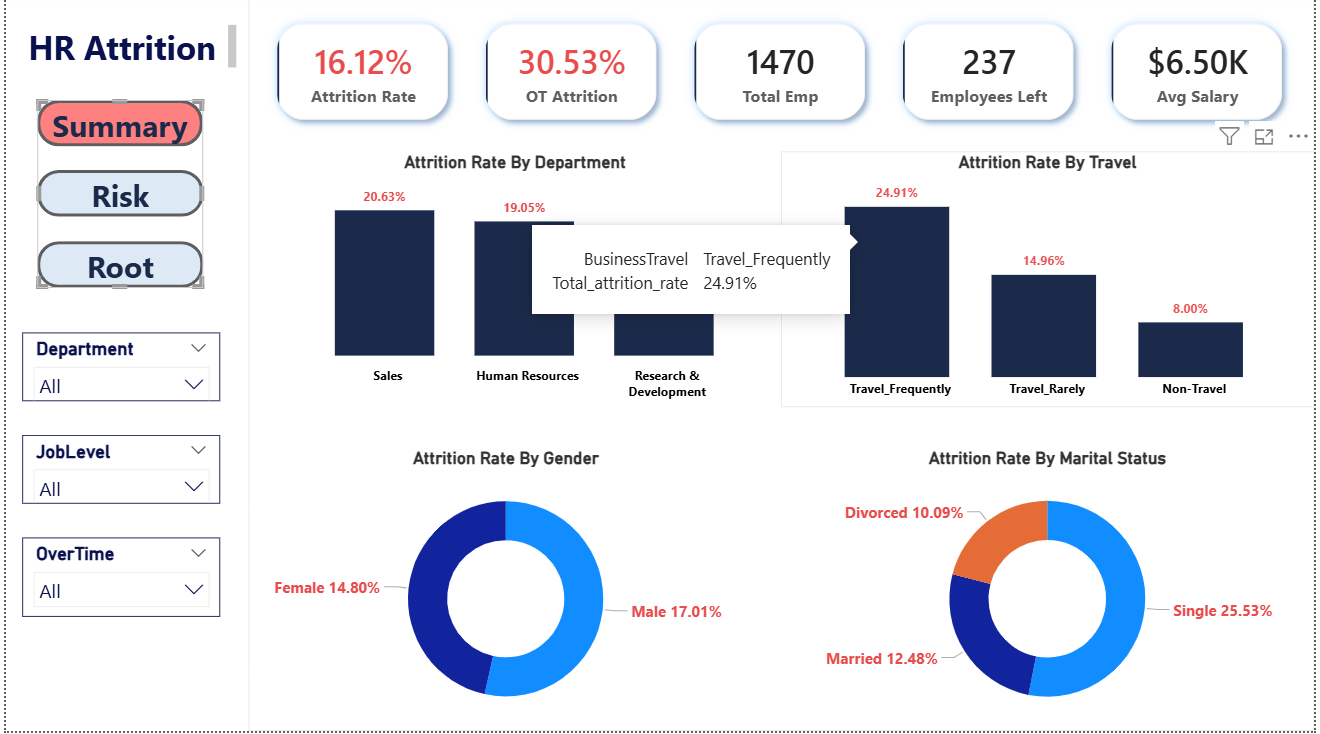

The page's visual inventory and layout, read from the dashboard file:
{"tool":"powerbi","page":{"name":"Hr_dashBoard","canvas":[1280,720],"ordinal":0},"visuals":[{"type":"group","id":"g1","title":"summary_dashboard","box":[237.4,0,1042.9,720.4],"z":0},{"type":"cardVisual","fields":{"Data":["Table.Total_attrition_rate","Table.OT_Attrition_Rate","Table.Total_employees","Table.Employees_left","Table.Avg_salary"]},"box":[237.4,0,1042.9,150.9],"z":0,"group":"g1"},{"type":"actionButton","box":[29.4,100.4,161.9,45.3],"z":0,"group":"g4"},{"type":"clusteredColumnChart","title":"Top 3 Attrition Rate By Department","fields":{"Y":["Table.Total_attrition_rate"],"Category":["hr_data hr_data.Department"]},"box":[262.9,149.5,416.7,268.4],"z":0,"group":"g2"},{"type":"slicer","fields":{"Values":["hr_data hr_data.JobLevel"]},"box":[15.6,431.1,193.9,67.5],"z":0,"group":"g3"},{"type":"group","id":"g2","title":"risk","box":[262.9,149.5,1017.4,569.1],"z":1000},{"type":"clusteredColumnChart","title":" Attrition Rate By  OverTime","fields":{"Y":["Table.Total_attrition_rate"],"Category":["hr_data hr_data.OverTime"]},"box":[653.2,150.9,251.1,264.8],"z":1000,"group":"g2"},{"type":"actionButton","box":[29.4,169.2,162.5,45.6],"z":1000,"group":"g4"},{"type":"slicer","fields":{"Values":["hr_data hr_data.Department"]},"box":[15.6,330.7,193.9,67.5],"z":1000,"group":"g3"},{"type":"actionButton","box":[29.4,238.4,162.5,45.6],"z":2000,"group":"g4"},{"type":"barChart","title":"Attrition Rate By Distance","fields":{"Category":["hr_data hr_data.distance"],"Y":["Table.Total_attrition_rate"]},"box":[758.5,453.6,521.2,264.9],"z":2000,"group":"g2"},{"type":"slicer","fields":{"Values":["hr_data hr_data.OverTime"]},"box":[15.6,531.6,193.9,77.9],"z":2000,"group":"g3"},{"type":"textbox","box":[3.5,24.2,226.8,51.9],"z":3000},{"type":"clusteredColumnChart","title":"Attrition Rate By  Salary","fields":{"Y":["Table.Total_attrition_rate"],"Category":["hr_data hr_data.salary band"]},"box":[263.2,455.4,476.2,263.2],"z":3000,"group":"g2"},{"type":"clusteredColumnChart","title":"Attrition Rate By JobLevel","fields":{"Y":["Table.Total_attrition_rate"],"Category":["hr_data hr_data.JobLevel"]},"box":[891.9,152.3,388.3,264.8],"z":4000,"group":"g2"},{"type":"group","id":"g3","title":"slicers","box":[15.6,330.7,193.9,278.8],"z":5000},{"type":"group","id":"g4","title":"Riskbuttons","box":[29.4,100.4,162.8,183.6],"z":7000}]}

Visuals, with their boxes in screenshot pixels (x1, y1, x2, y2), scaled from the page's 1280x720 canvas onto the 1320x734 screenshot:
"summary_dashboard" group: [left=245, top=0, right=1319, bottom=733]
cardVisual - Table.Total_attrition_rate x Table.OT_Attrition_Rate: [left=245, top=0, right=1319, bottom=154]
actionButton: [left=30, top=102, right=197, bottom=149]
"Top 3 Attrition Rate By Department" clusteredColumnChart: [left=271, top=152, right=701, bottom=426]
slicer - hr_data hr_data.JobLevel: [left=16, top=439, right=216, bottom=508]
"risk" group: [left=271, top=152, right=1319, bottom=733]
" Attrition Rate By  OverTime" clusteredColumnChart: [left=674, top=154, right=933, bottom=424]
actionButton: [left=30, top=172, right=198, bottom=219]
slicer - hr_data hr_data.Department: [left=16, top=337, right=216, bottom=406]
actionButton: [left=30, top=243, right=198, bottom=290]
"Attrition Rate By Distance" barChart: [left=782, top=462, right=1319, bottom=732]
slicer - hr_data hr_data.OverTime: [left=16, top=542, right=216, bottom=621]
textbox: [left=4, top=25, right=237, bottom=78]
"Attrition Rate By  Salary" clusteredColumnChart: [left=271, top=464, right=763, bottom=733]
"Attrition Rate By JobLevel" clusteredColumnChart: [left=920, top=155, right=1319, bottom=425]
"slicers" group: [left=16, top=337, right=216, bottom=621]
"Riskbuttons" group: [left=30, top=102, right=198, bottom=290]
